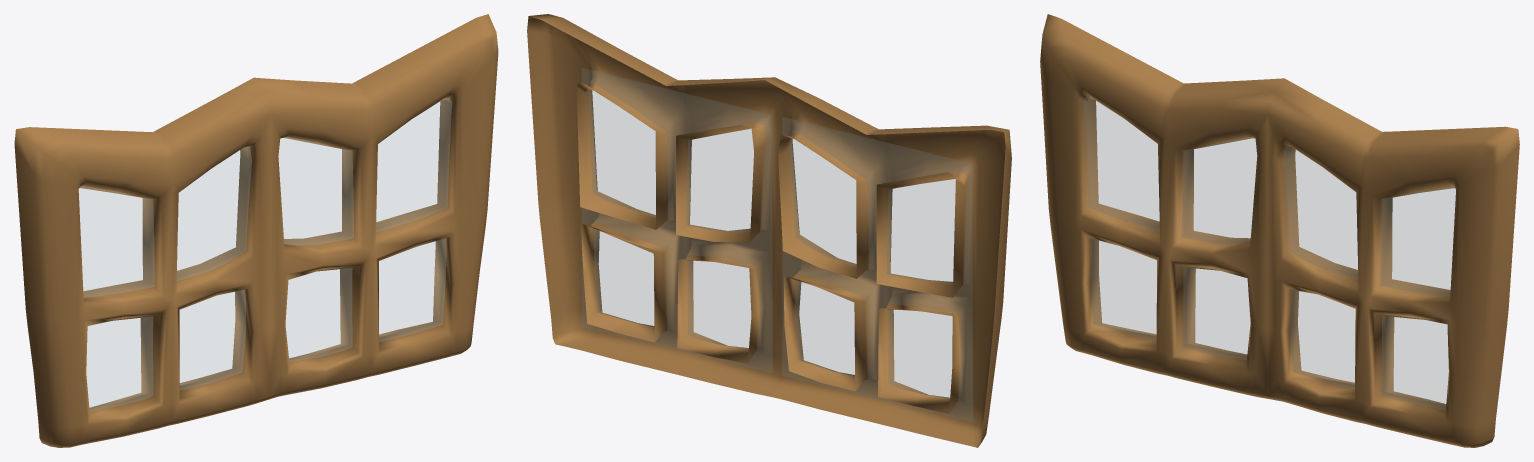
File: props_double_windows.fbx
3 renders of one model, left to right at view 1: azimuth 30°, elevation 25°; view 2: azimuth 150°, elevation 25°; view 3: azimuth 330°, elevation 25°, orthographic.
Visible parts, largest first — view 1: Props_window1.001; view 2: Props_window1.001; view 3: Props_window1.001.
Part boxes in pixels (x1=…): Props_window1.001: x1=14, y1=14, x2=498, y2=447; Props_window1.001: x1=527, y1=14, x2=1011, y2=447; Props_window1.001: x1=1040, y1=14, x2=1519, y2=447.
Size of the model in its own units: 323 by 208 by 23.
